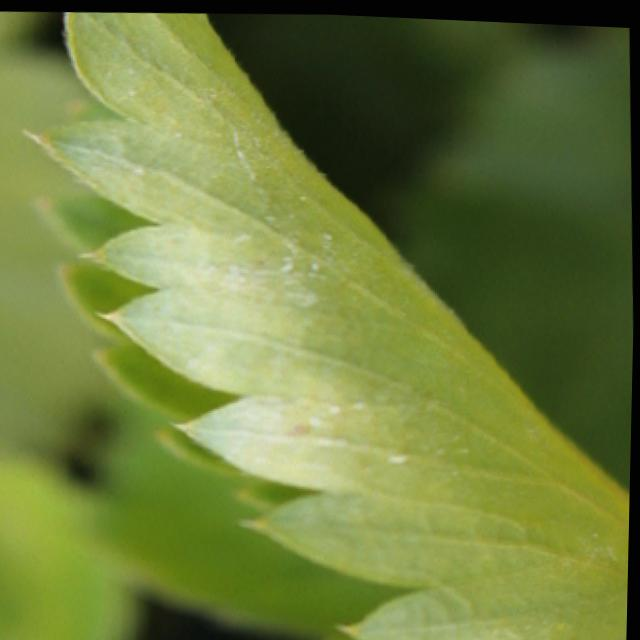Powdery Mildew Leaf: (19, 11, 632, 640)
